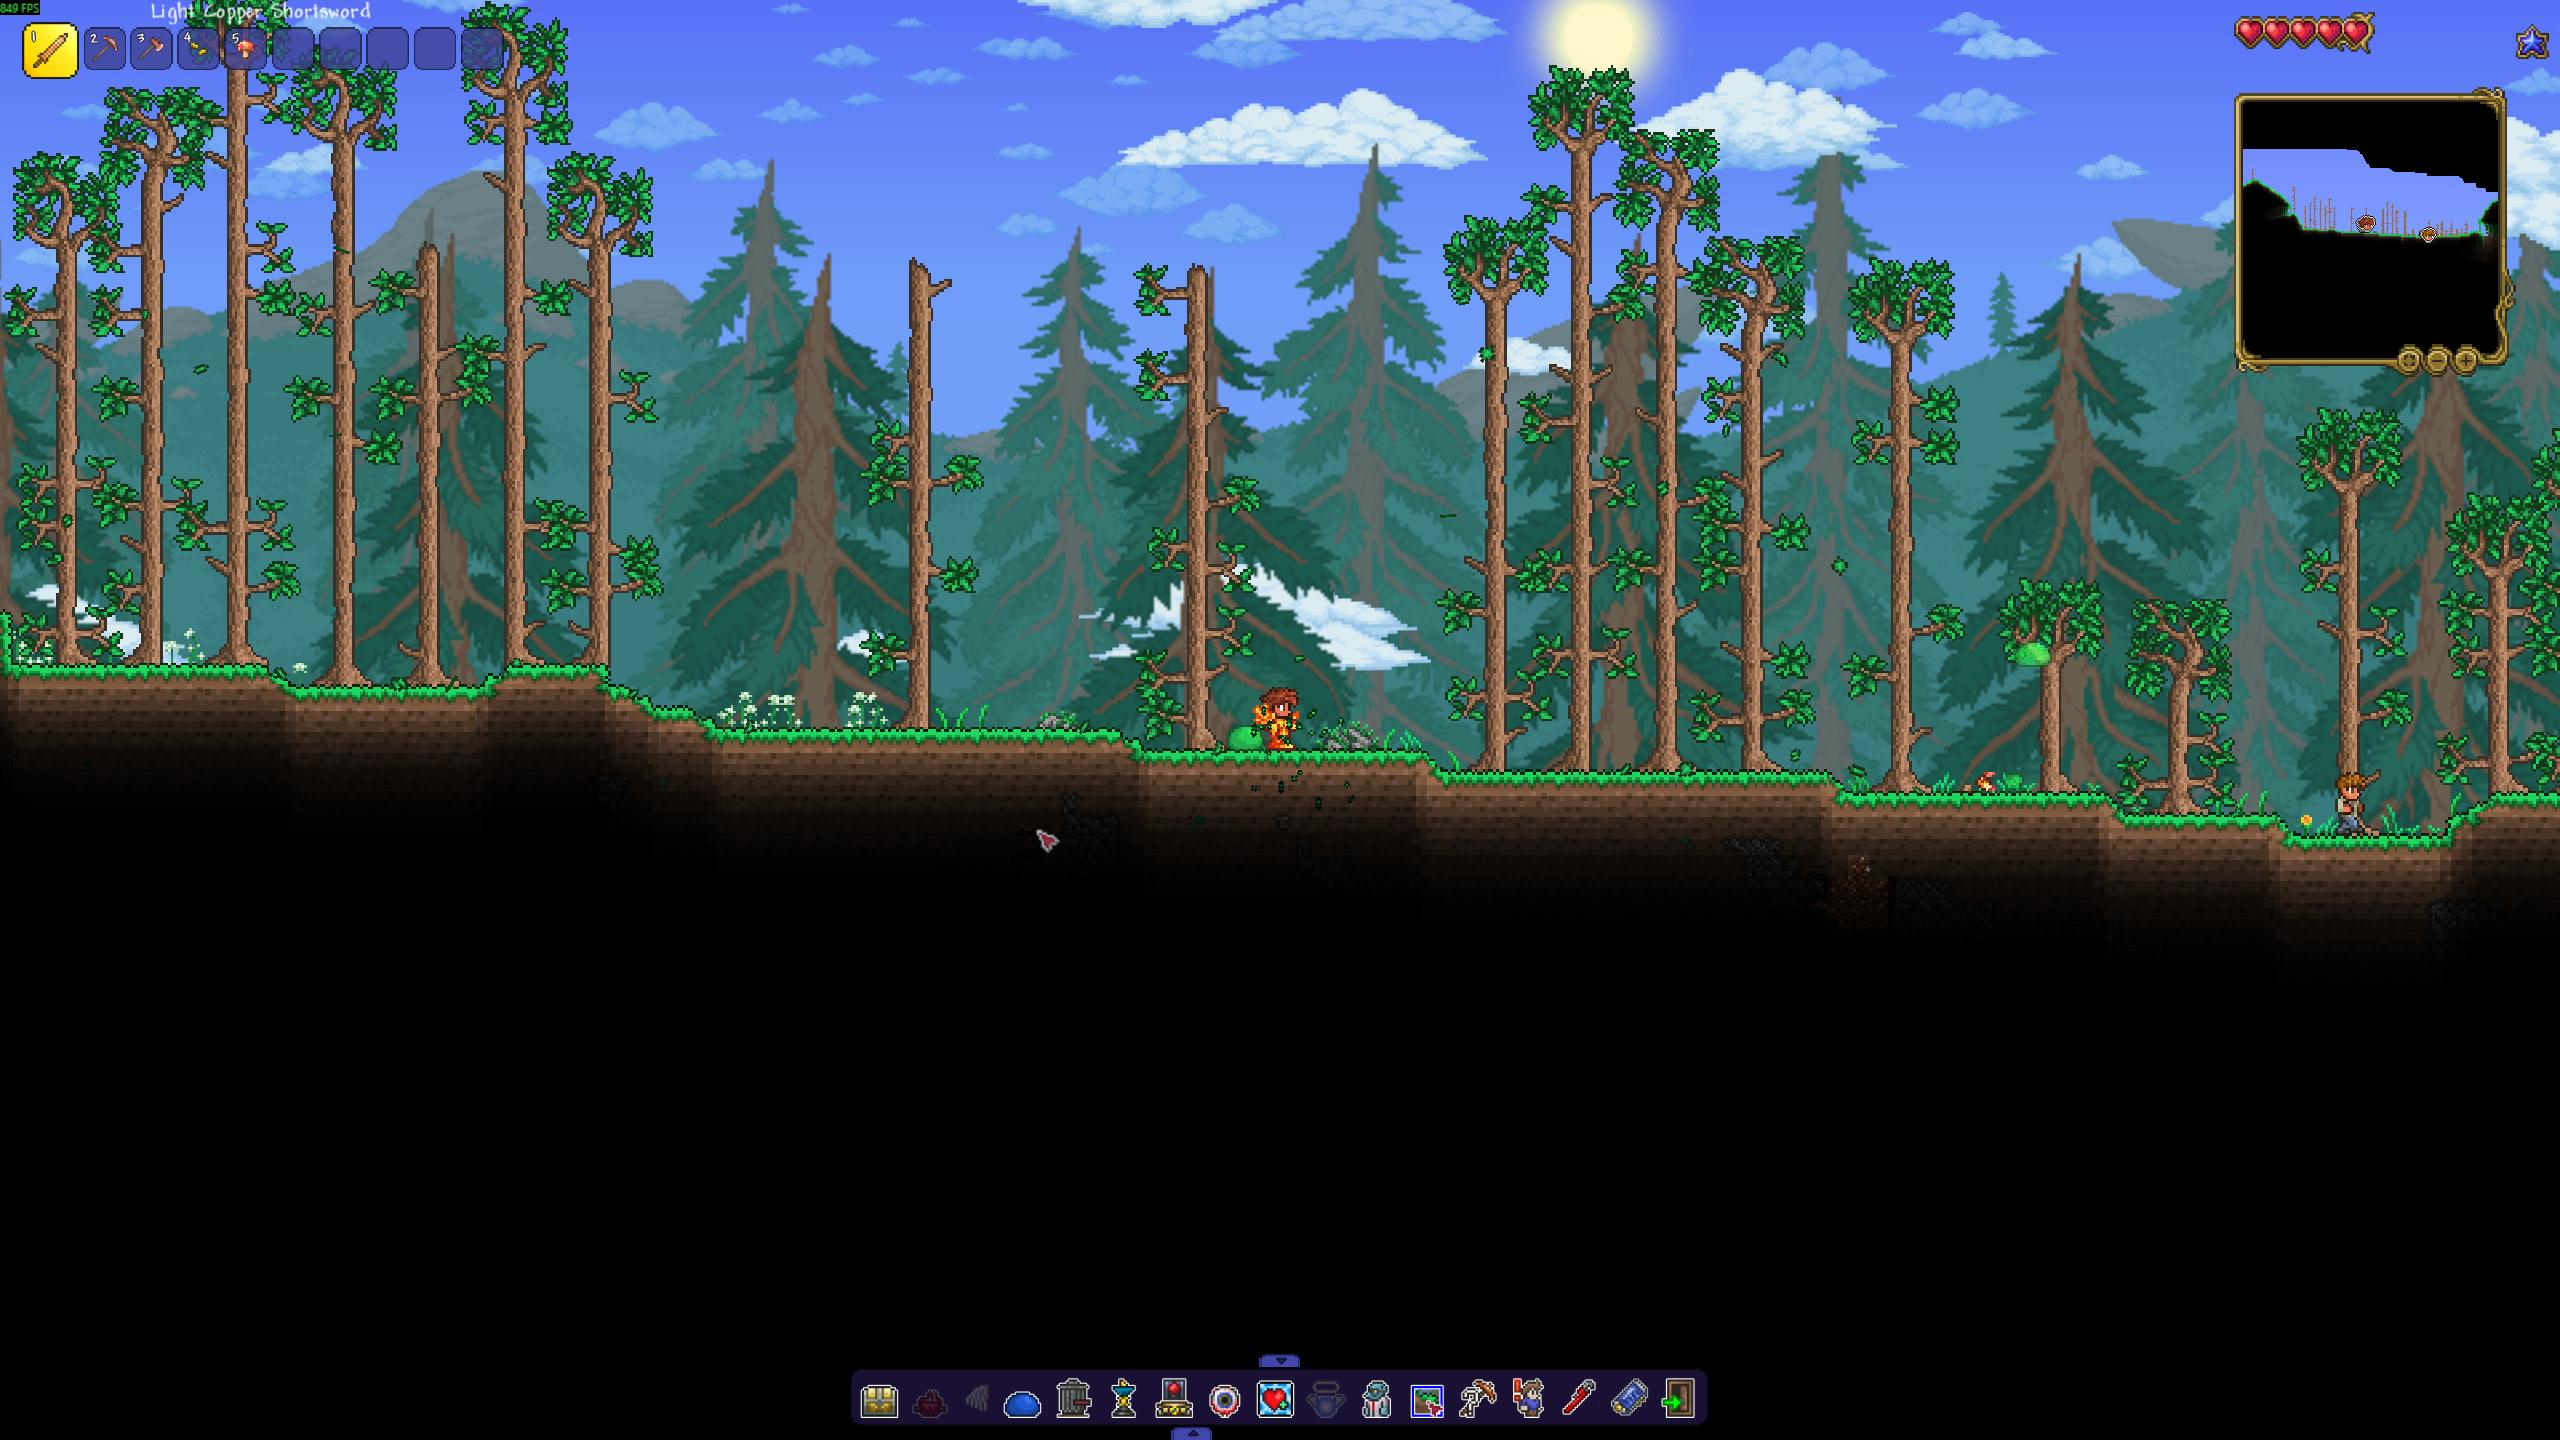Green Slime: (2011, 642, 2052, 668), (1227, 726, 1262, 751)
